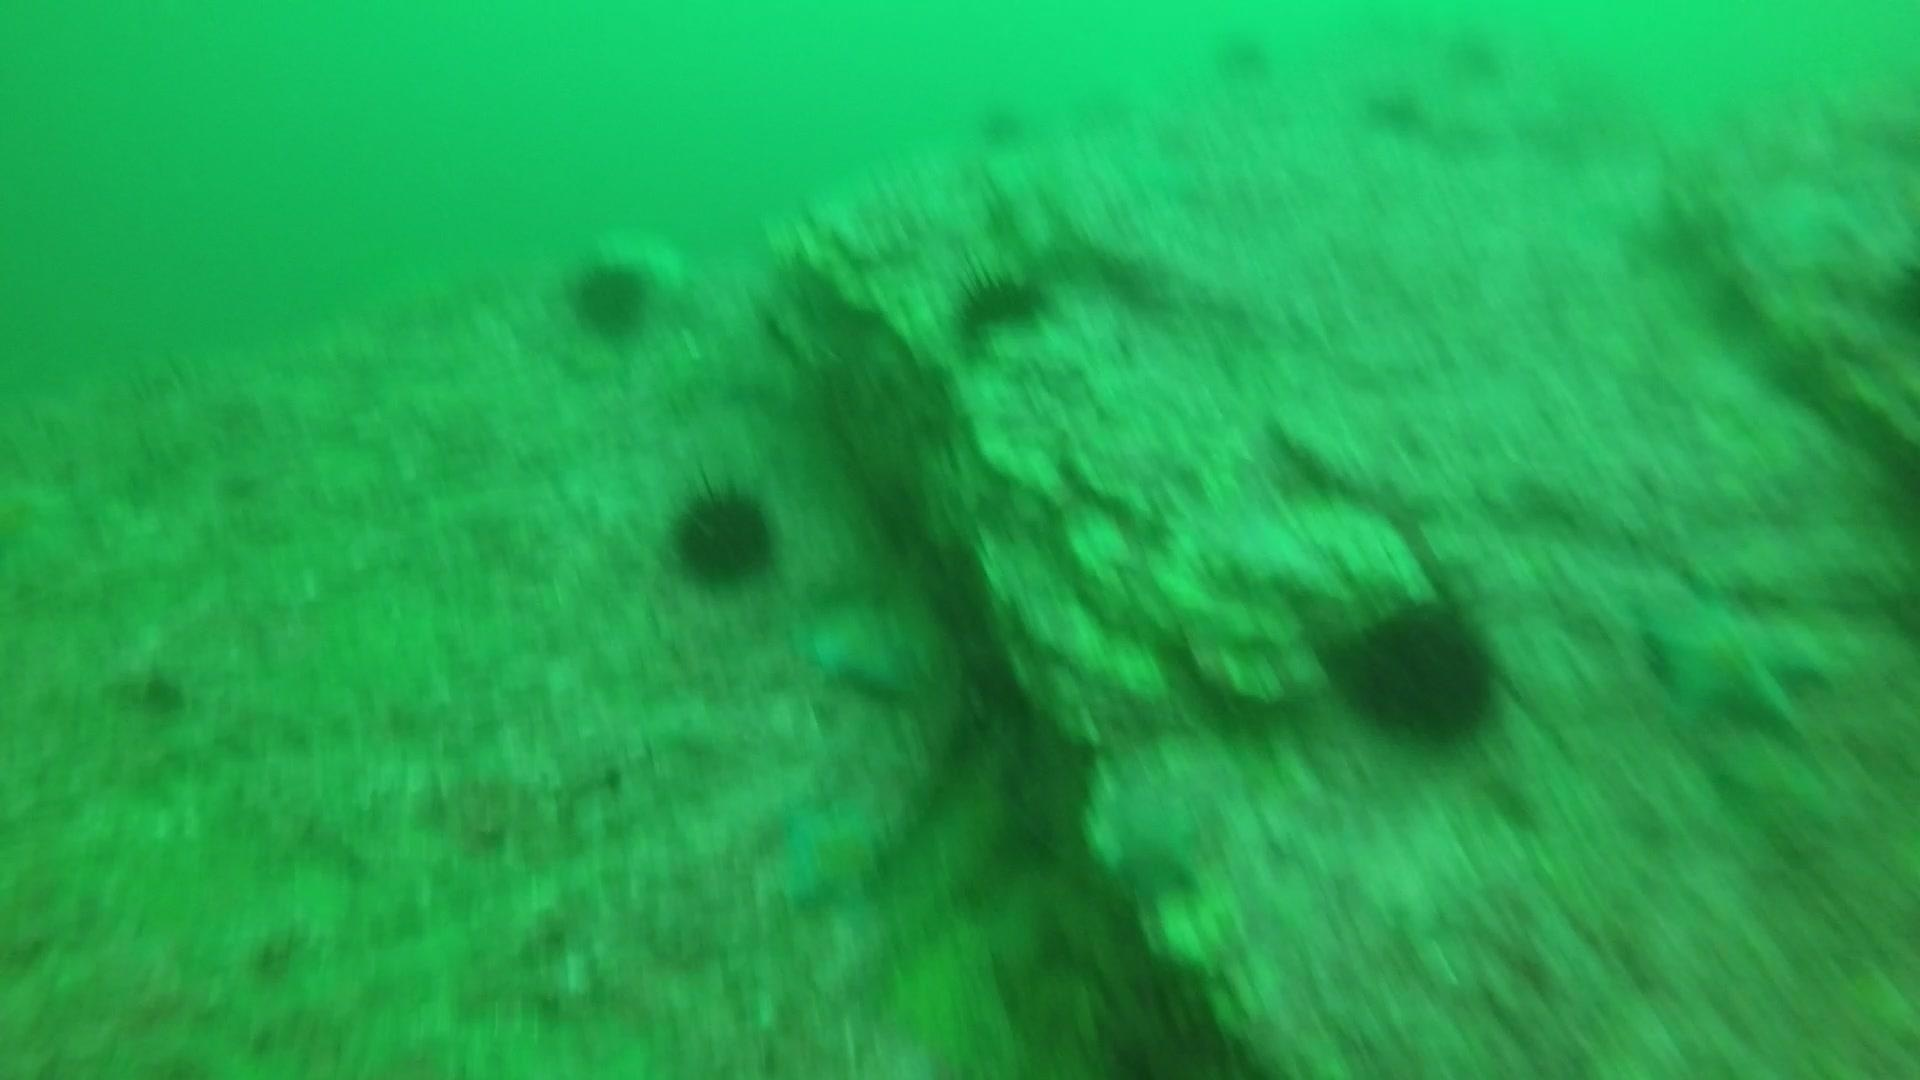echinus: (1329, 589, 1511, 750), (662, 475, 785, 593), (562, 251, 659, 343), (948, 262, 1055, 345), (1360, 76, 1429, 138), (1451, 32, 1520, 94), (1207, 26, 1278, 86), (971, 95, 1031, 152)
starfish: (1635, 589, 1836, 738), (762, 790, 899, 920), (789, 588, 932, 702)
